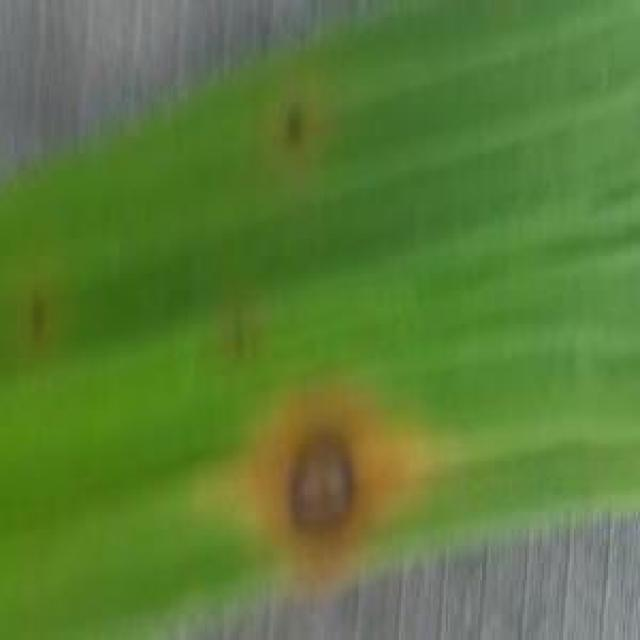brownspots: (255, 433, 390, 542), (266, 104, 316, 156)
